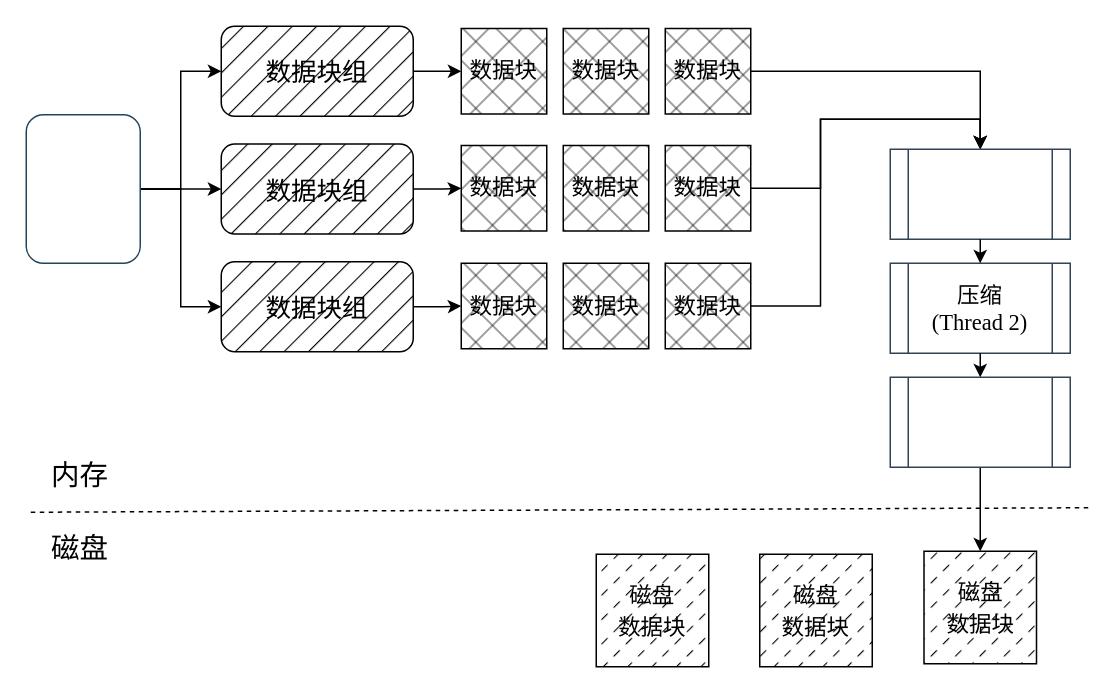
The diagram is 1118 pixels wide and 693 high, and some of its shapes have lost their labels. The box of each missing label's shape, as (x1, y1, x2, y2) in pixels:
I/O (Thread 3): (889, 376, 1070, 467)
内存表: (25, 113, 140, 263)
编码 (Thread 1): (889, 148, 1070, 239)
